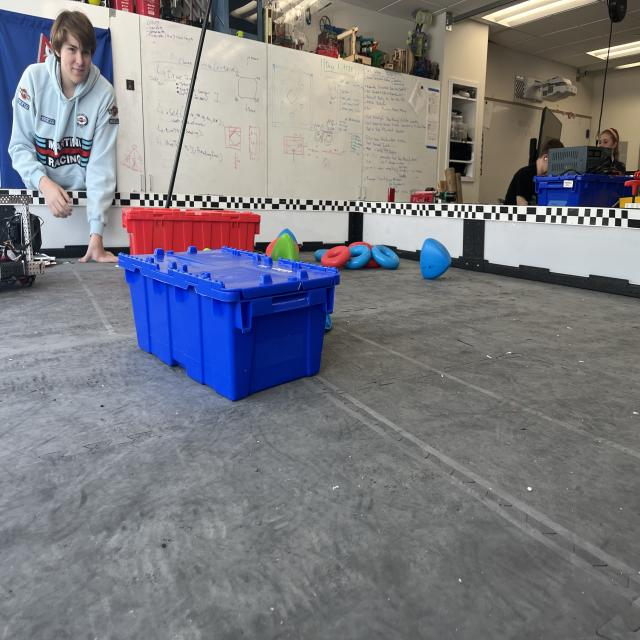Blue-Ring: (371, 245, 399, 270), (345, 245, 371, 270)
Red-Ring: (321, 245, 350, 268)
